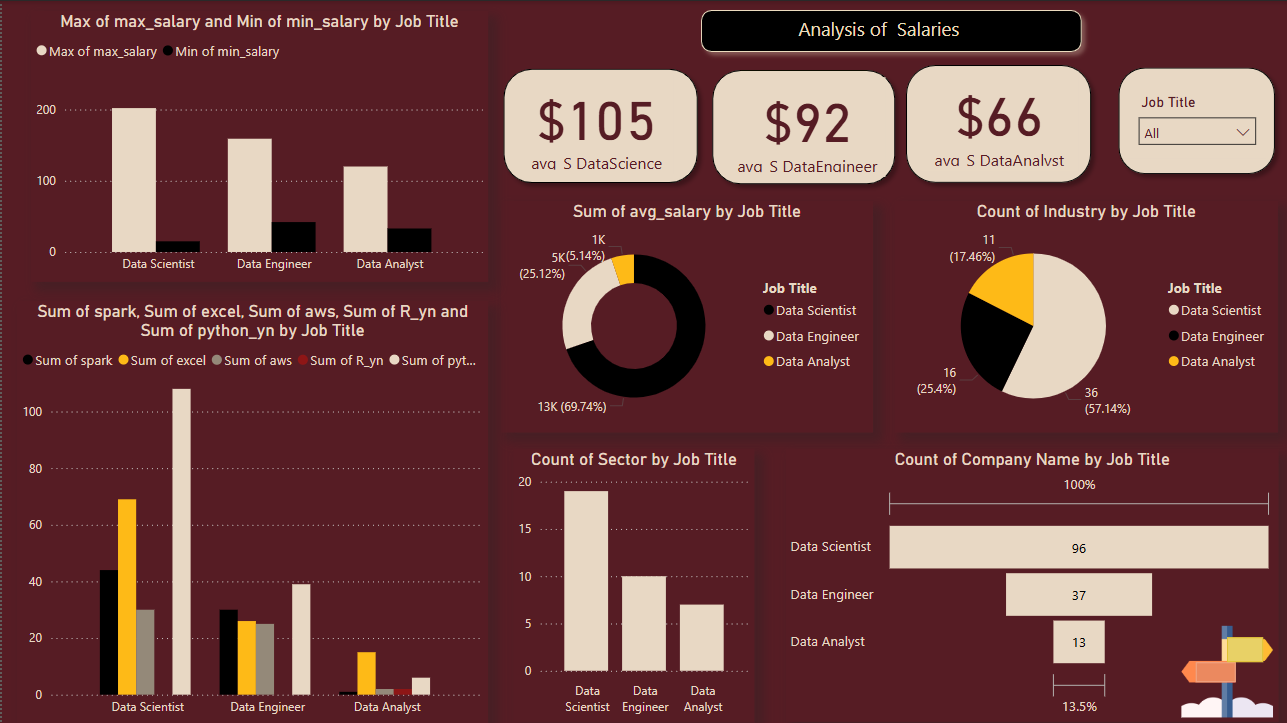

What the dashboard file says about the page in this screenshot:
{"tool":"powerbi","page":{"name":"salaries","canvas":[1280,720],"ordinal":1},"visuals":[{"type":"donutChart","fields":{"Category":["salary_data_cleaned.Job Title"],"Y":["Sum(salary_data_cleaned.avg_salary)"]},"box":[496.3,199,370.7,230.1],"z":0},{"type":"clusteredColumnChart","fields":{"Category":["salary_data_cleaned.Job Title"],"Y":["Max(salary_data_cleaned.max_salary)","Min(salary_data_cleaned.min_salary)"]},"box":[28.6,10,455.3,269.9],"z":1000},{"type":"funnel","fields":{"Category":["salary_data_cleaned.Job Title"],"Y":["Count(salary_data_cleaned.Company Name)"]},"box":[780.1,445.8,490.6,271.8],"z":2000},{"type":"pieChart","fields":{"Category":["salary_data_cleaned.Job Title"],"Y":["Count(salary_data_cleaned.Industry)"]},"box":[888.2,199,381.9,230.1],"z":3000},{"type":"columnChart","fields":{"Category":["salary_data_cleaned.Job Title"],"Y":["Count(salary_data_cleaned.Sector)"]},"box":[508.8,445.3,240.1,272.4],"z":4000},{"type":"clusteredColumnChart","fields":{"Category":["salary_data_cleaned.Job Title"],"Y":["Sum(salary_data_cleaned.spark)","Sum(salary_data_cleaned.excel)","Sum(salary_data_cleaned.aws)","Sum(salary_data_cleaned.R_yn)","Sum(salary_data_cleaned.python_yn)"]},"box":[14.9,298.6,469,421.7],"z":5000},{"type":"shape","box":[686.7,0,396.8,59.7],"z":6000},{"type":"textbox","box":[787.4,10,201.5,36.1],"z":7000},{"type":"shape","box":[489.6,58,211.5,131.9],"z":8000},{"type":"shape","box":[697.4,59.2,200.3,131.9],"z":9000},{"type":"shape","box":[890.2,55.2,202.8,135.6],"z":10000},{"type":"card","fields":{"Values":["salary_data_cleaned.avg_S DataScience"]},"box":[515.7,72.9,151.8,99.5],"z":11000},{"type":"card","fields":{"Values":["salary_data_cleaned.avg_S DataEngineer"]},"box":[723.5,75.4,155.5,99.5],"z":12000},{"type":"card","fields":{"Values":["salary_data_cleaned.avg_S DataAnalyst"]},"box":[913.8,70.2,156.7,99.5],"z":13000},{"type":"shape","box":[1101.7,57,174.2,124.4],"z":14000},{"type":"slicer","fields":{"Values":["salary_data_cleaned.Job Title"]},"box":[1120.3,86.8,136.8,69.7],"z":15000},{"type":"image","box":[1168.1,617,102,100.8],"z":16000},{"type":"shape","box":[1188,658.1,39.8,19.9],"z":17000},{"type":"shape","box":[1219.1,633.2,36.1,24.9],"z":18000}]}

Visuals, with their boxes in screenshot pixels (x1, y1, x2, y2), scaled from the page's 1280x720 canvas onto the 1287x723 screenshot:
donutChart - salary_data_cleaned.Job Title x Sum(salary_data_cleaned.avg_salary): x1=499 y1=200 x2=872 y2=431
clusteredColumnChart - salary_data_cleaned.Job Title x Max(salary_data_cleaned.max_salary): x1=29 y1=10 x2=487 y2=281
funnel - salary_data_cleaned.Job Title x Count(salary_data_cleaned.Company Name): x1=784 y1=448 x2=1278 y2=721
pieChart - salary_data_cleaned.Job Title x Count(salary_data_cleaned.Industry): x1=893 y1=200 x2=1277 y2=431
columnChart - salary_data_cleaned.Job Title x Count(salary_data_cleaned.Sector): x1=512 y1=447 x2=753 y2=721
clusteredColumnChart - salary_data_cleaned.Job Title x Sum(salary_data_cleaned.spark): x1=15 y1=300 x2=487 y2=722
shape: x1=690 y1=0 x2=1089 y2=60
textbox: x1=792 y1=10 x2=994 y2=46
shape: x1=492 y1=58 x2=705 y2=191
shape: x1=701 y1=59 x2=903 y2=192
shape: x1=895 y1=55 x2=1099 y2=192
card - salary_data_cleaned.avg_S DataScience: x1=519 y1=73 x2=671 y2=173
card - salary_data_cleaned.avg_S DataEngineer: x1=727 y1=76 x2=884 y2=176
card - salary_data_cleaned.avg_S DataAnalyst: x1=919 y1=70 x2=1076 y2=170
shape: x1=1108 y1=57 x2=1283 y2=182
slicer - salary_data_cleaned.Job Title: x1=1126 y1=87 x2=1264 y2=157
image: x1=1174 y1=620 x2=1277 y2=721
shape: x1=1194 y1=661 x2=1235 y2=681
shape: x1=1226 y1=636 x2=1262 y2=661
